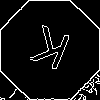K: (25, 25, 73, 80)
